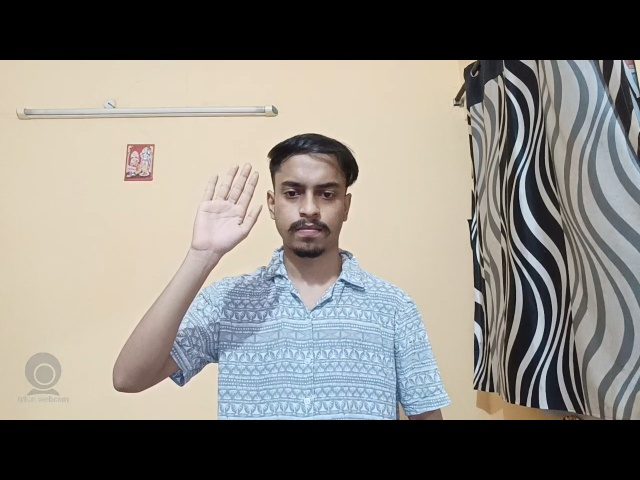Hello: (196, 158, 268, 259)
